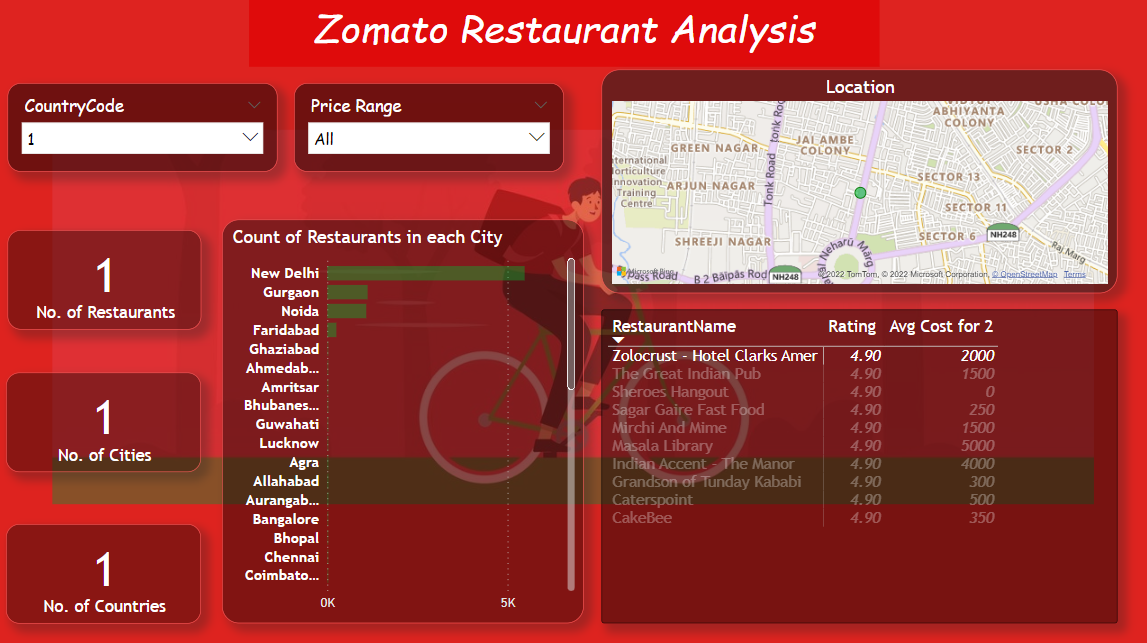

The dashboard page shown, as its layout file describes it:
{"tool":"powerbi","page":{"name":"Page 1","canvas":[1280,720],"ordinal":0},"visuals":[{"type":"card","fields":{"Values":["Count(ZomatoData.RestaurantID)"]},"box":[12.1,259.3,215.4,110.7],"z":0},{"type":"card","fields":{"Values":["Count(ZomatoData.City)"]},"box":[10.6,418.6,216.9,110.7],"z":1000},{"type":"card","fields":{"Values":["Count(ZomatoData.CountryCode)"]},"box":[10.6,586.9,216.9,110.7],"z":2000},{"type":"slicer","fields":{"Values":["ZomatoData.CountryCode"]},"box":[12.1,97.1,300.3,98.6],"z":3000},{"type":"slicer","fields":{"Values":["ZomatoData.Price_range"]},"box":[330.6,97.1,300.3,98.6],"z":4000},{"type":"clusteredBarChart","title":"Count of Restaurants in each City","fields":{"Category":["ZomatoData.City"],"Y":["CountNonNull(ZomatoData.RestaurantID)"]},"box":[250.2,248.7,401.9,448.9],"z":6000},{"type":"pivotTable","fields":{"Rows":["ZomatoData.RestaurantName"],"Values":["Avg(ZomatoData.Rating)","Sum(ZomatoData.Average_Cost_for_two)"]},"box":[671.8,348.8,573.3,348.8],"z":7000},{"type":"textbox","box":[280.6,0,700.7,78.9],"z":8000},{"type":"map","title":"Location","fields":{"Y":["ZomatoData.Latitude"],"X":["ZomatoData.Longitude"]},"box":[671.8,81.9,573.3,248.7],"z":9000}]}

Visuals, with their boxes in screenshot pixels (x1, y1, x2, y2), scaled from the page's 1280x720 canvas onto the 1147x643 screenshot:
card - Count(ZomatoData.RestaurantID): x1=11 y1=232 x2=204 y2=330
card - Count(ZomatoData.City): x1=9 y1=374 x2=204 y2=473
card - Count(ZomatoData.CountryCode): x1=9 y1=524 x2=204 y2=623
slicer - ZomatoData.CountryCode: x1=11 y1=87 x2=280 y2=175
slicer - ZomatoData.Price_range: x1=296 y1=87 x2=565 y2=175
"Count of Restaurants in each City" clusteredBarChart: x1=224 y1=222 x2=584 y2=623
pivotTable - ZomatoData.RestaurantName x Avg(ZomatoData.Rating): x1=602 y1=311 x2=1116 y2=623
textbox: x1=251 y1=0 x2=879 y2=70
"Location" map: x1=602 y1=73 x2=1116 y2=295
